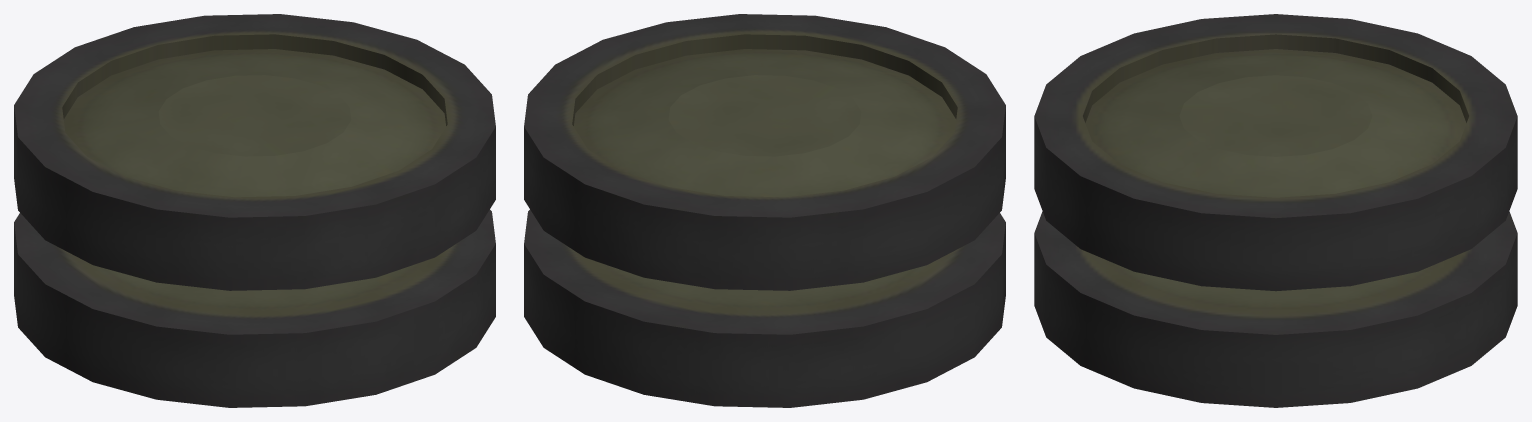
File: T-35_RoadWheel.fbx
The picture shows the model from 3 angles, left to right: view 1: azimuth 30°, elevation 25°; view 2: azimuth 150°, elevation 25°; view 3: azimuth 270°, elevation 25°; orthographic projection.
Visible parts, largest first — view 1: T-35_RoadWheel; view 2: T-35_RoadWheel; view 3: T-35_RoadWheel.
Part boxes in pixels (x1,y1,x2,y2): T-35_RoadWheel: [14, 14, 495, 407]; T-35_RoadWheel: [524, 14, 1005, 407]; T-35_RoadWheel: [1034, 14, 1517, 407].
Size of the model in its own units: 0.6 by 0.26 by 0.6.
